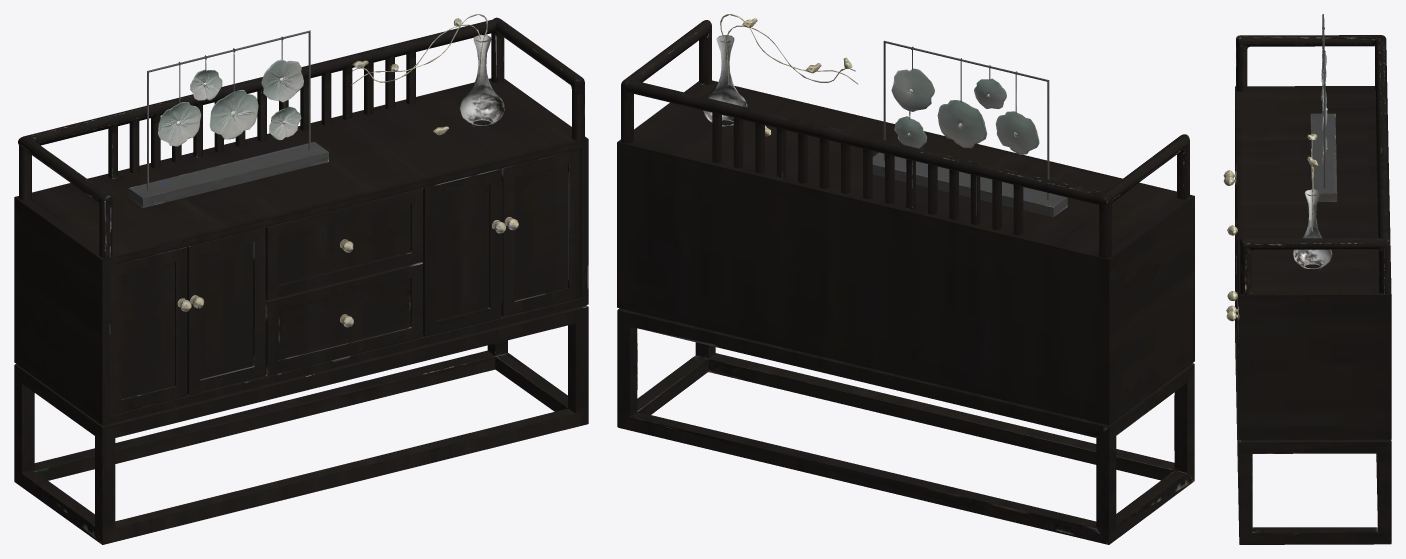
3 views of the same model, side by side, from view 1: azimuth 30°, elevation 25°; view 2: azimuth 150°, elevation 25°; view 3: azimuth 270°, elevation 25° (orthographic). The views are drawn at different scales.
Parts seen in each view (by area): view 1: solid_001; view 2: solid_001; view 3: solid_001.
Boxes of the visible parts, x1,y1,x2,y2 form: solid_001: (14, 14, 588, 544); solid_001: (617, 14, 1194, 544); solid_001: (1223, 14, 1391, 544).
Size of the model in its own units: 1.53 by 1.24 by 0.5175.
Materials: 1 (1 with a texture image).
